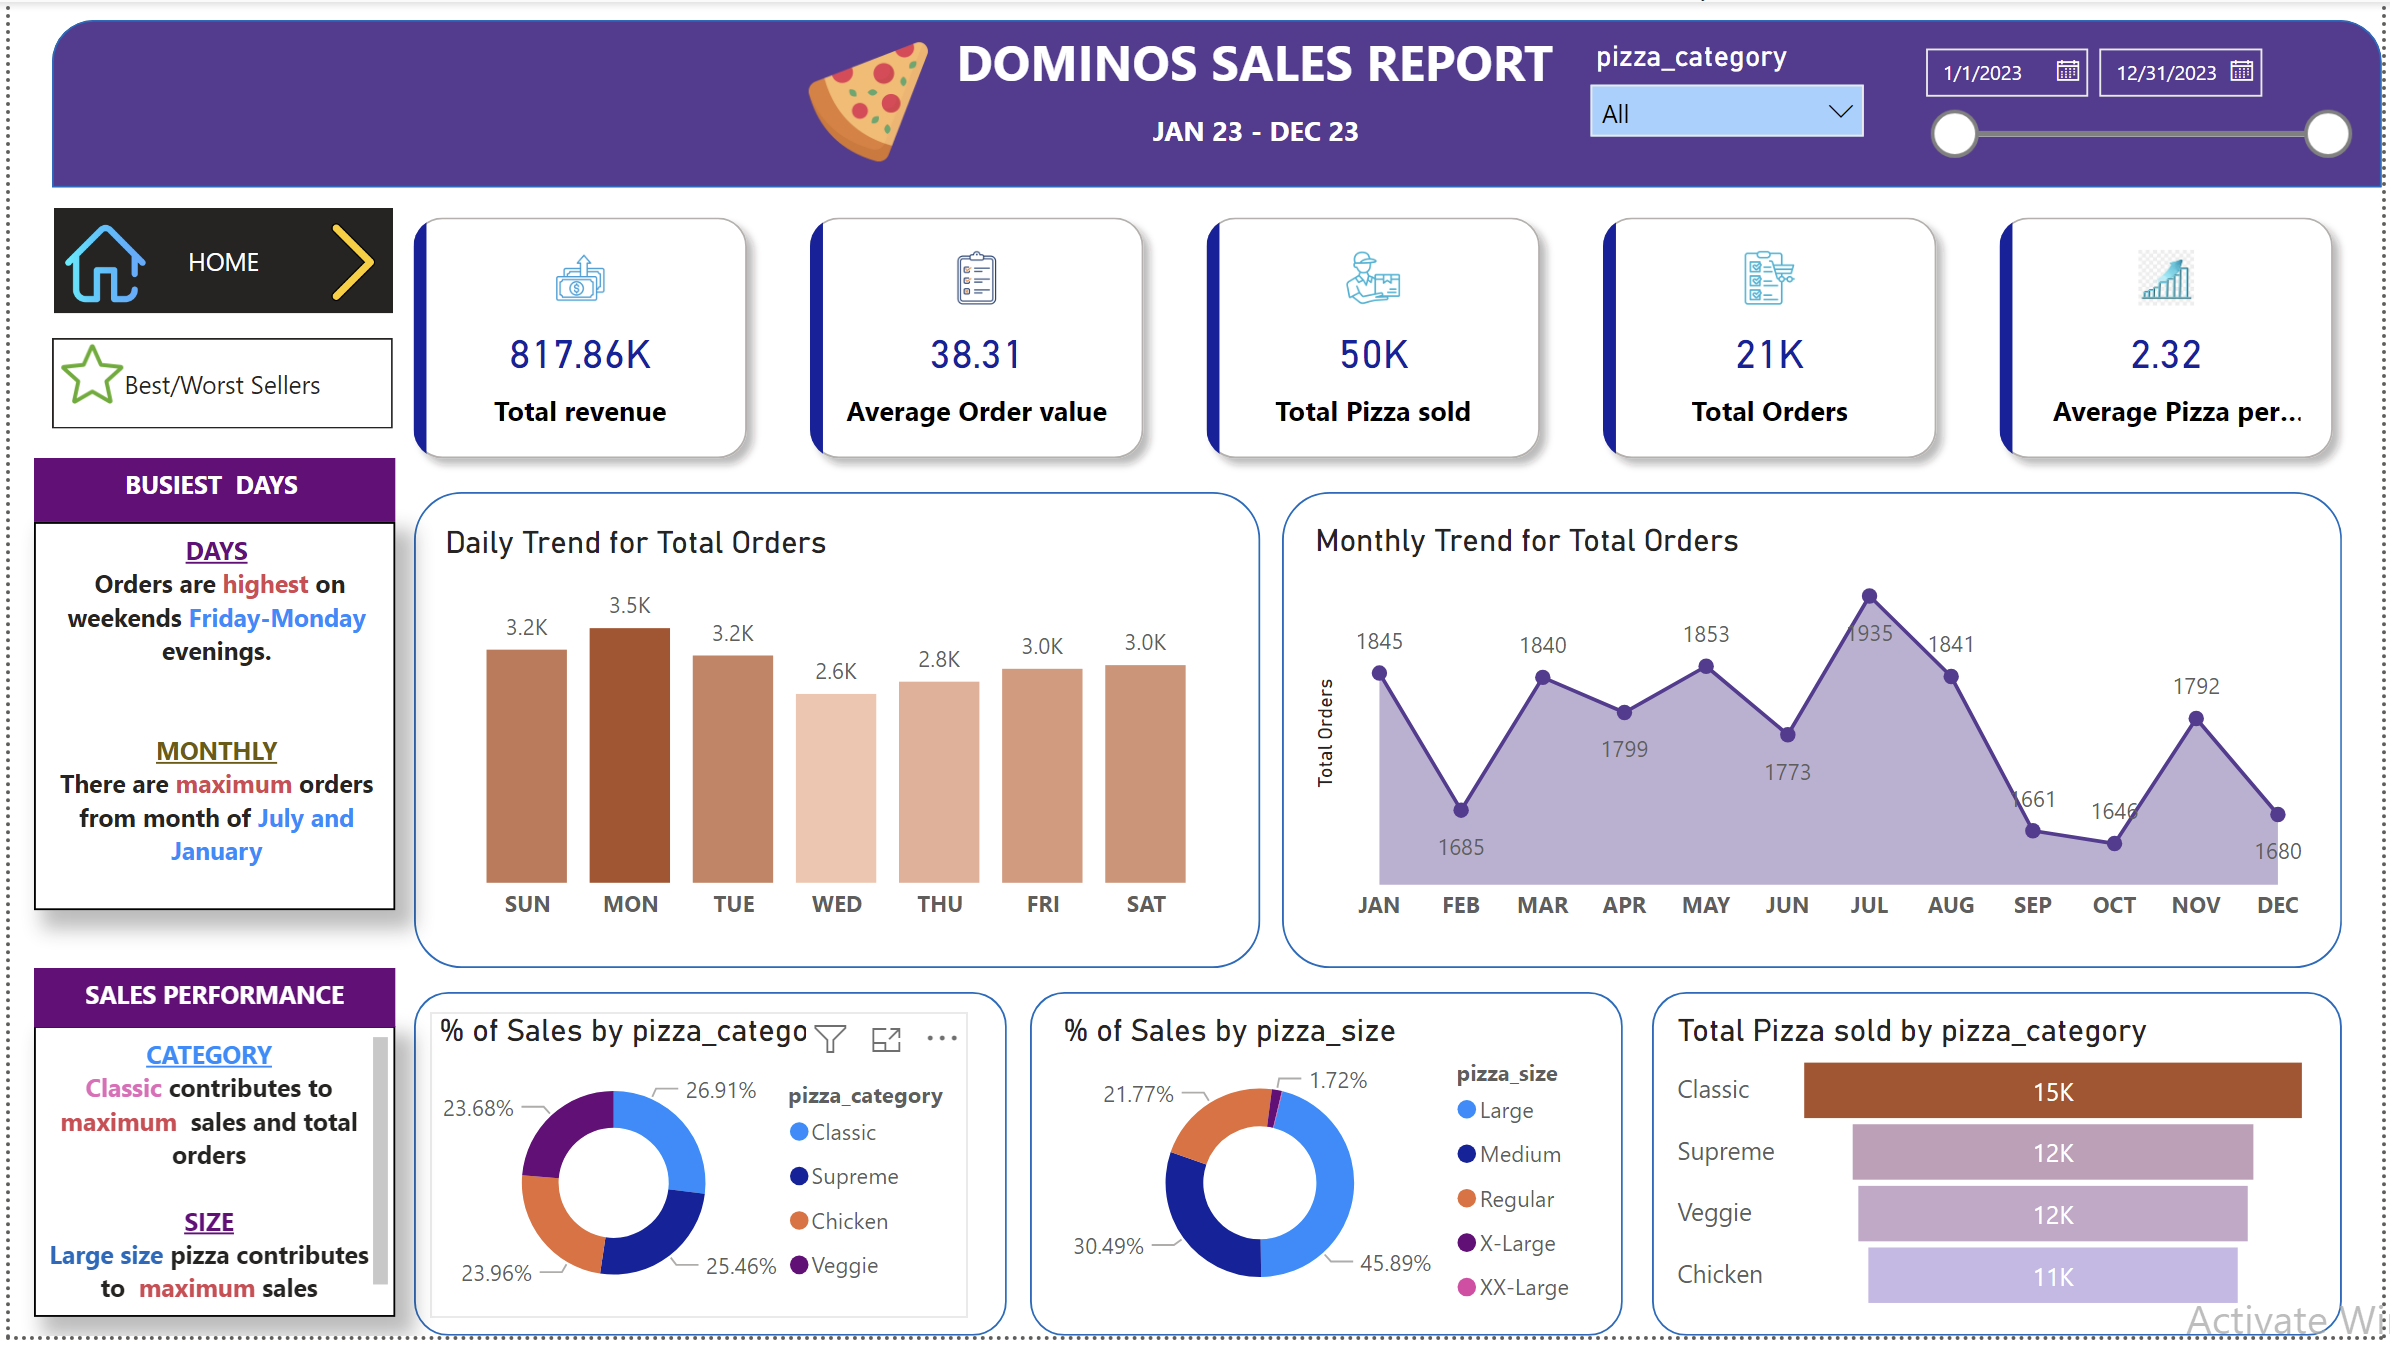

This screenshot's page, from the dashboard's own definition file:
{"tool":"powerbi","page":{"name":"HOME","canvas":[1280,720],"ordinal":0},"visuals":[{"type":"cardVisual","fields":{"Data":["Key_Measures.Total revenue","Key_Measures.Average Order value","Key_Measures.Total Pizza sold","Key_Measures.Total Orders","Key_Measures.Average Pizza per Order"]},"box":[200.4,99.5,1071.6,164.2],"z":0},{"type":"shape","box":[22.6,9.5,1257.4,90.4],"z":1000},{"type":"textbox","box":[486,9,372.3,54.3],"z":2000},{"type":"textbox","box":[537.7,54.3,270.2,32.3],"z":3000},{"type":"image","box":[400.7,15.5,125.4,77.6],"z":4000},{"type":"shape","box":[217.7,264.1,456.8,257],"z":5000},{"type":"clusteredColumnChart","title":"Daily Trend for Total Orders ","fields":{"Category":["pizza_sales.Order Day"],"Y":["Key_Measures.Total Orders"]},"box":[229.6,281.9,433,223.6],"z":6000},{"type":"shape","box":[686.4,264.1,572.2,257],"z":7000},{"type":"areaChart","title":"Monthly Trend for Total Orders","fields":{"Category":["pizza_sales.Order Month"],"Y":["Key_Measures.Total Orders"]},"box":[699.5,280.7,547.2,224.8],"z":8000},{"type":"shape","box":[217.7,534.1,320,185.6],"z":9000},{"type":"shape","box":[550.8,534.1,320,185.6],"z":10000},{"type":"shape","box":[886.2,534.1,372.3,185.6],"z":11000},{"type":"donutChart","title":"% of Sales by pizza_category","fields":{"Category":["pizza_sales.pizza_category"],"Y":["Key_Measures.Total revenue"]},"box":[227.2,544.8,290.3,165.4],"z":12000},{"type":"donutChart","title":"% of Sales by pizza_size","fields":{"Y":["Key_Measures.Total revenue"],"Category":["pizza_sales.pizza_size"]},"box":[563.9,544.8,296.2,165.4],"z":13000},{"type":"funnel","fields":{"Y":["Key_Measures.Total Pizza sold"],"Category":["pizza_sales.pizza_category"]},"box":[894.6,544.8,352.1,165.4],"z":14000},{"type":"textbox","box":[13.1,280.7,195.1,209.4],"z":15000},{"type":"textbox","box":[13.1,553.2,195.1,157],"z":16000},{"type":"textbox","box":[13.1,246.2,195.1,34.5],"z":17000},{"type":"textbox","box":[13.1,521,195.1,32.1],"z":18000},{"type":"slicer","fields":{"Values":["pizza_sales.pizza_category"]},"box":[843.4,15.5,167.7,71.4],"z":19000},{"type":"slicer","fields":{"Values":["pizza_sales.order_date"]},"box":[1020.7,15.5,251,71.4],"z":20000},{"type":"pageNavigator","box":[24,111.4,183.3,57.8],"z":20001},{"type":"pageNavigator","box":[22.6,181.9,184.7,49.3],"z":20002},{"type":"image","box":[153.7,114.2,63.4,52.2],"z":20003},{"type":"image","box":[24,114.2,55,53.6],"z":20004},{"type":"image","box":[22.6,169.2,43.7,62],"z":20005}]}

Visuals, with their boxes in screenshot pixels (x1, y1, x2, y2), scaled from the page's 1280x720 canvas onto the 2390x1348 screenshot:
cardVisual - Key_Measures.Total revenue x Key_Measures.Average Order value: box=[374, 186, 2375, 494]
shape: box=[42, 18, 2389, 187]
textbox: box=[907, 17, 1603, 119]
textbox: box=[1004, 102, 1509, 162]
image: box=[748, 29, 982, 174]
shape: box=[406, 494, 1259, 976]
"Daily Trend for Total Orders " clusteredColumnChart: box=[429, 528, 1237, 946]
shape: box=[1282, 494, 2350, 976]
"Monthly Trend for Total Orders" areaChart: box=[1306, 526, 2328, 946]
shape: box=[406, 1000, 1004, 1347]
shape: box=[1028, 1000, 1626, 1347]
shape: box=[1655, 1000, 2350, 1347]
"% of Sales by pizza_category" donutChart: box=[424, 1020, 966, 1330]
"% of Sales by pizza_size" donutChart: box=[1053, 1020, 1606, 1330]
funnel - Key_Measures.Total Pizza sold x pizza_sales.pizza_category: box=[1670, 1020, 2328, 1330]
textbox: box=[24, 526, 389, 918]
textbox: box=[24, 1036, 389, 1330]
textbox: box=[24, 461, 389, 526]
textbox: box=[24, 975, 389, 1036]
slicer - pizza_sales.pizza_category: box=[1575, 29, 1888, 163]
slicer - pizza_sales.order_date: box=[1906, 29, 2375, 163]
pageNavigator: box=[45, 209, 387, 317]
pageNavigator: box=[42, 341, 387, 433]
image: box=[287, 214, 405, 312]
image: box=[45, 214, 148, 314]
image: box=[42, 317, 124, 433]
